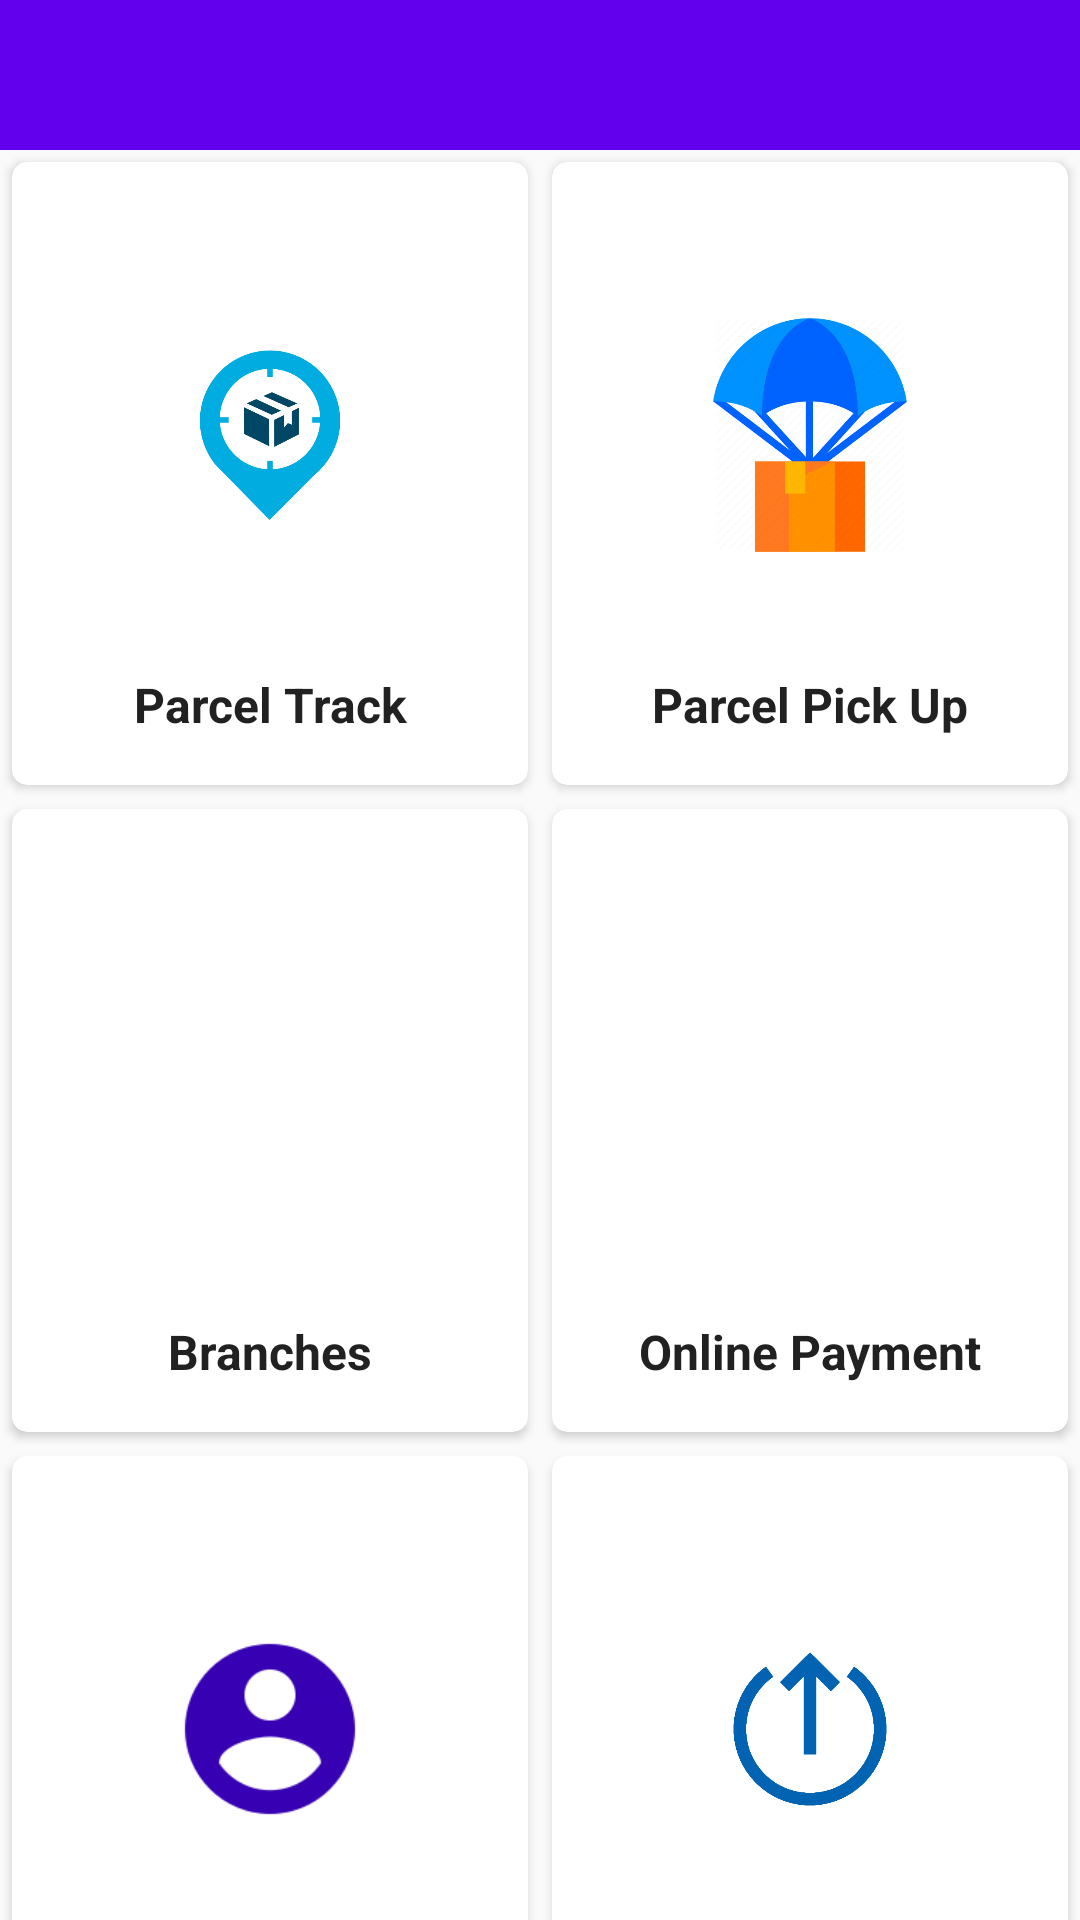

Where icons sit on this 1080×1920 app screen, as [x1=x1, y1=y1, x2=x2, y2=y2]:
account circle: [x1=184, y1=1643, x2=356, y2=1815]
